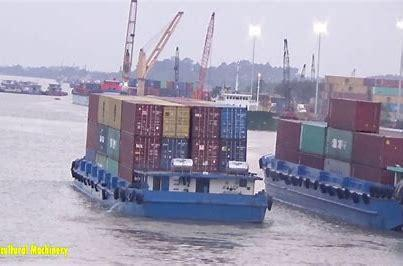Ship: (74, 69, 273, 226), (267, 84, 403, 230)
